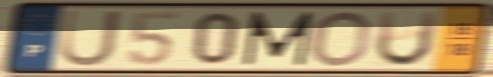0: (190, 11, 244, 67)
5: (125, 10, 181, 67)
M: (240, 10, 317, 68)
O: (307, 9, 374, 69)
U: (372, 9, 442, 70), (57, 8, 124, 69)
